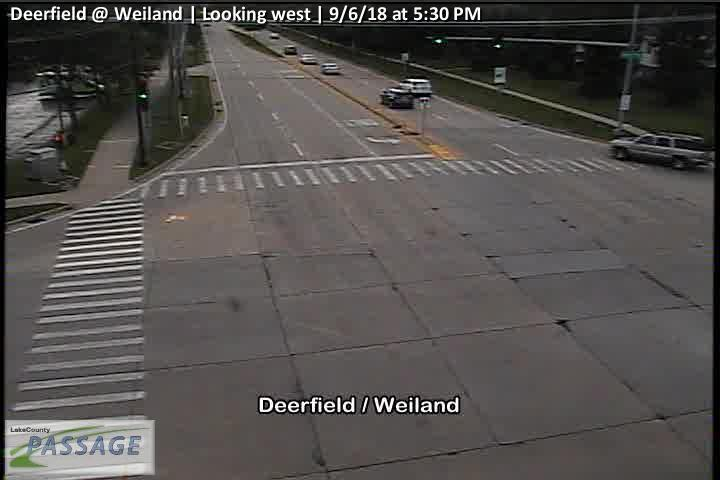SUV: (607, 130, 707, 170), (399, 78, 433, 97)
Sedan: (379, 85, 413, 107), (321, 62, 340, 75), (297, 52, 317, 64)
